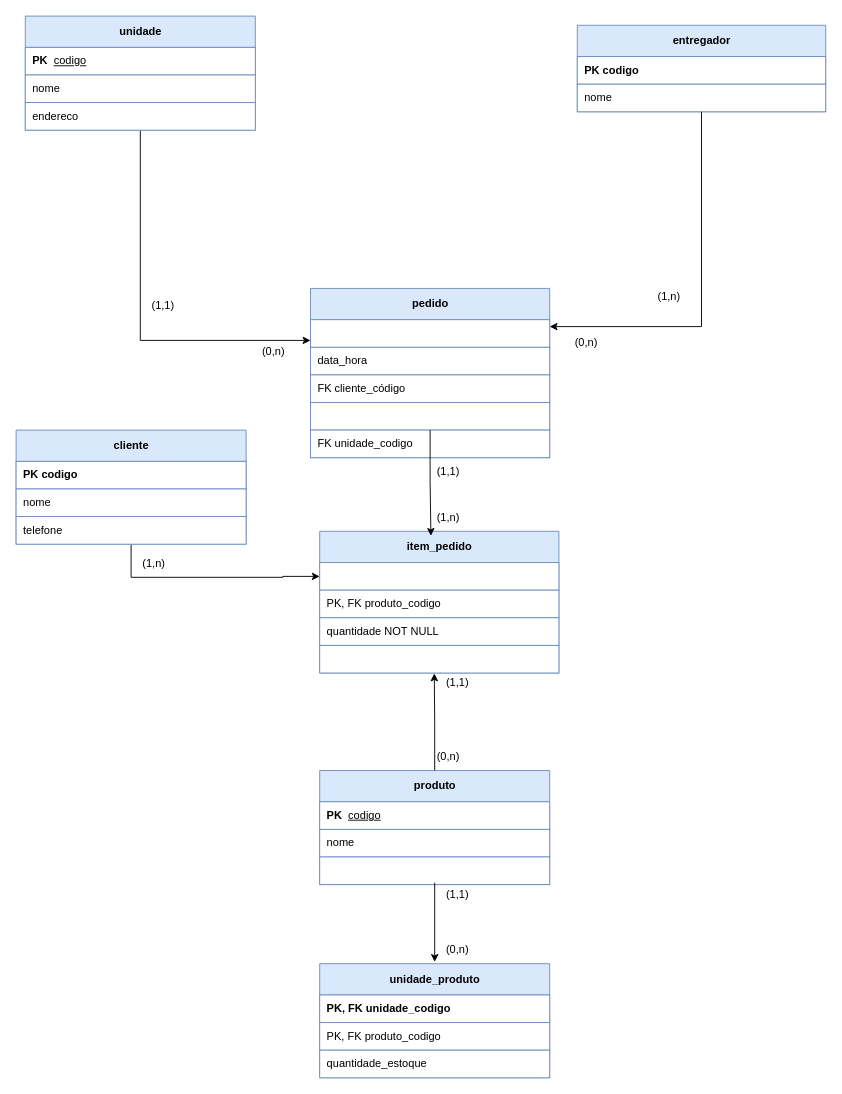
Some shapes in this 842 by 1094 pixel diagram are drawn without their labels. The shapes that lost their labels are listed below. From the top down, each one's centre as x and y in pixels, then its label:
At point (430, 333): "PK numero".
At point (430, 416): "FK entrega_código".
At point (439, 576): "PK, FK pedido_numero".
At point (439, 658): "preco_cobrado NOT NULL".
At point (434, 870): "preco_tabela".
